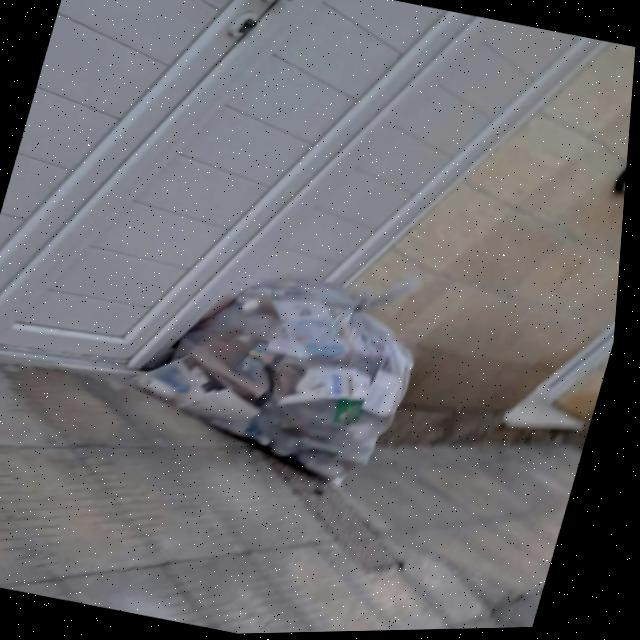Recycled Waste -Grey or Green Bag-: (113, 229, 444, 503)
